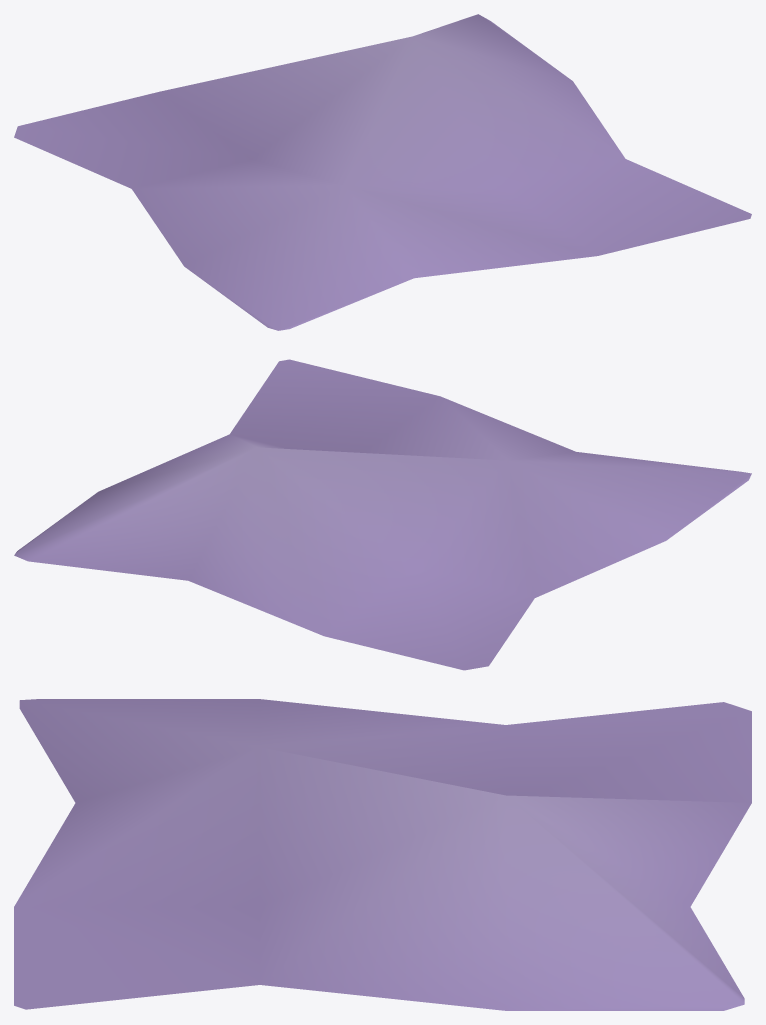
Rendered from rag.glb.
The picture shows the model from 3 angles, top to bottom: view 1: azimuth 30°, elevation 25°; view 2: azimuth 150°, elevation 25°; view 3: azimuth 270°, elevation 25°; orthographic projection. The views are drawn at different scales.
Parts seen in each view (by area): view 1: rag; view 2: rag; view 3: rag.
Boxes of the visible parts, x1=… form: rag: x1=14, y1=14, x2=751, y2=330; rag: x1=14, y1=359, x2=751, y2=670; rag: x1=14, y1=699, x2=751, y2=1010.
Size of the model in its own units: 1.2 by 0.2 by 1.2.
